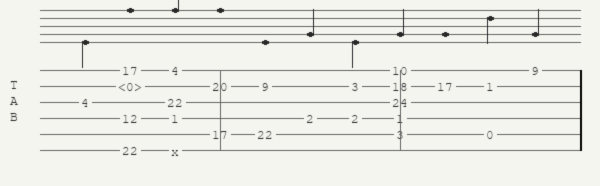0: (486, 128, 498, 140)
1: (171, 112, 183, 124), (396, 112, 408, 124), (486, 80, 498, 92)
10: (392, 64, 412, 76)
12: (122, 112, 142, 124)
17: (122, 64, 142, 76), (212, 128, 232, 140), (437, 80, 457, 92)
18: (392, 80, 412, 92)
2: (306, 112, 318, 124), (351, 112, 363, 124)
20: (212, 80, 232, 92)
22: (122, 144, 142, 156), (167, 96, 187, 108), (257, 128, 277, 140)
24: (392, 96, 412, 108)
3: (351, 80, 363, 92), (396, 128, 408, 140)
4: (81, 96, 93, 108), (171, 64, 183, 76)
9: (261, 80, 273, 92), (531, 64, 543, 76)
harmonic: (118, 80, 146, 93)
x: (171, 145, 183, 155)
